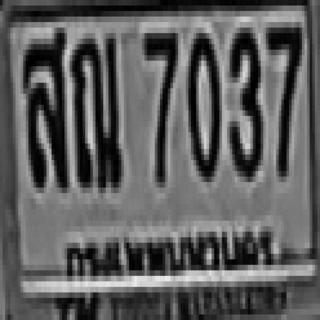A19: (71, 28, 120, 188)
A40: (20, 25, 67, 185)
N00: (186, 27, 217, 176)
N03: (227, 22, 260, 176)
N07: (263, 19, 299, 174), (142, 28, 176, 182)
P04: (60, 218, 284, 278)
